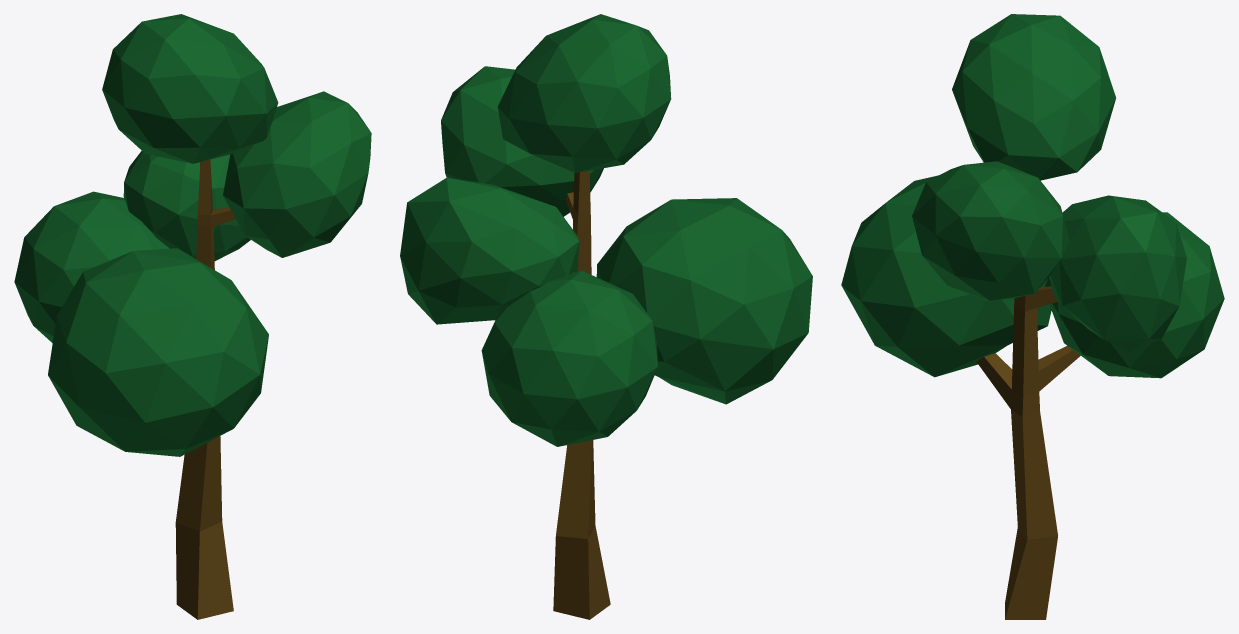
File: tree6.fbx
The picture shows the model from 3 angles, left to right: view 1: azimuth 30°, elevation 25°; view 2: azimuth 150°, elevation 25°; view 3: azimuth 270°, elevation 25°; orthographic projection. The views are drawn at different scales.
Visible parts, largest first — view 1: OakTree2_LOD0; view 2: OakTree2_LOD0; view 3: OakTree2_LOD0.
Boxes of the visible parts, x1,y1,x2,y2 form: OakTree2_LOD0: [14, 14, 371, 619]; OakTree2_LOD0: [400, 14, 812, 619]; OakTree2_LOD0: [841, 14, 1224, 619].
Size of what is drawn, in the model's own units: 427 by 763 by 458.
